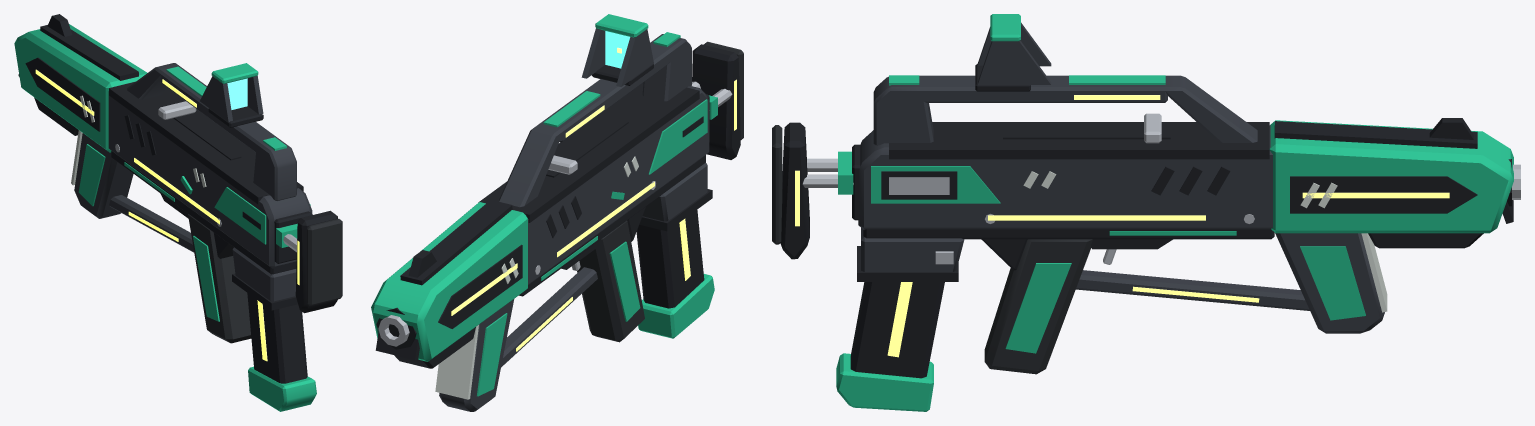
File: NovaDrift.glb
3 renders of one model, left to right at view 1: azimuth 30°, elevation 25°; view 2: azimuth 150°, elevation 25°; view 3: azimuth 270°, elevation 25°, orthographic. The views are drawn at different scales.
Parts seen in each view (by area): view 1: Body, Nose, Brow, Mag, Grip, ButtPad, Foregrip, BridgeRear, MagPlate, NoseCut, Magwell, NoseSpine (+25 smaller); view 2: Nose, Body, Brow, Mag, Grip, StockButt, BridgeFront, NoseSpine, NoseCut, MagPlate, GuardBow, BridgeBar (+26 smaller); view 3: Body, Nose, Brow, Mag, Grip, NoseCut, Foregrip, BridgeBar, GuardBow, Lower, MagPlate, BridgeRear (+24 smaller).
Part boxes in pixels (x1,y1,x2,y2): Body: (108, 91, 312, 268); Nose: (14, 24, 147, 152); Brow: (109, 81, 303, 204); Mag: (247, 293, 307, 383); Grip: (188, 214, 251, 343); ButtPad: (307, 218, 342, 305); Foregrip: (74, 133, 133, 218); BridgeRear: (253, 138, 296, 200); MagPlate: (248, 366, 316, 411); NoseCut: (25, 57, 100, 131); Magwell: (232, 247, 296, 301); NoseSpine: (40, 25, 138, 80); Nose: (371, 202, 527, 361); Body: (528, 86, 709, 284); Brow: (478, 82, 699, 222); Mag: (636, 210, 704, 308); Grip: (577, 220, 644, 342); StockButt: (692, 44, 740, 159); BridgeFront: (499, 123, 563, 207); NoseSpine: (400, 200, 512, 285); NoseCut: (438, 244, 522, 328); MagPlate: (638, 274, 714, 338); GuardBow: (501, 267, 597, 367); BridgeBar: (540, 42, 673, 142); Body: (858, 125, 1272, 229); Nose: (1269, 120, 1513, 233); Brow: (889, 122, 1269, 159); Mag: (850, 282, 944, 378); Grip: (984, 239, 1092, 374); NoseCut: (1290, 176, 1477, 213); Foregrip: (1275, 233, 1384, 333); BridgeBar: (917, 75, 1167, 102); GuardBow: (1076, 270, 1309, 310); Lower: (863, 229, 1274, 239); MagPlate: (836, 353, 933, 411); BridgeRear: (873, 76, 933, 145).
Bounding box in the file's own units: 0.29 × 1.65 × 2.95.
